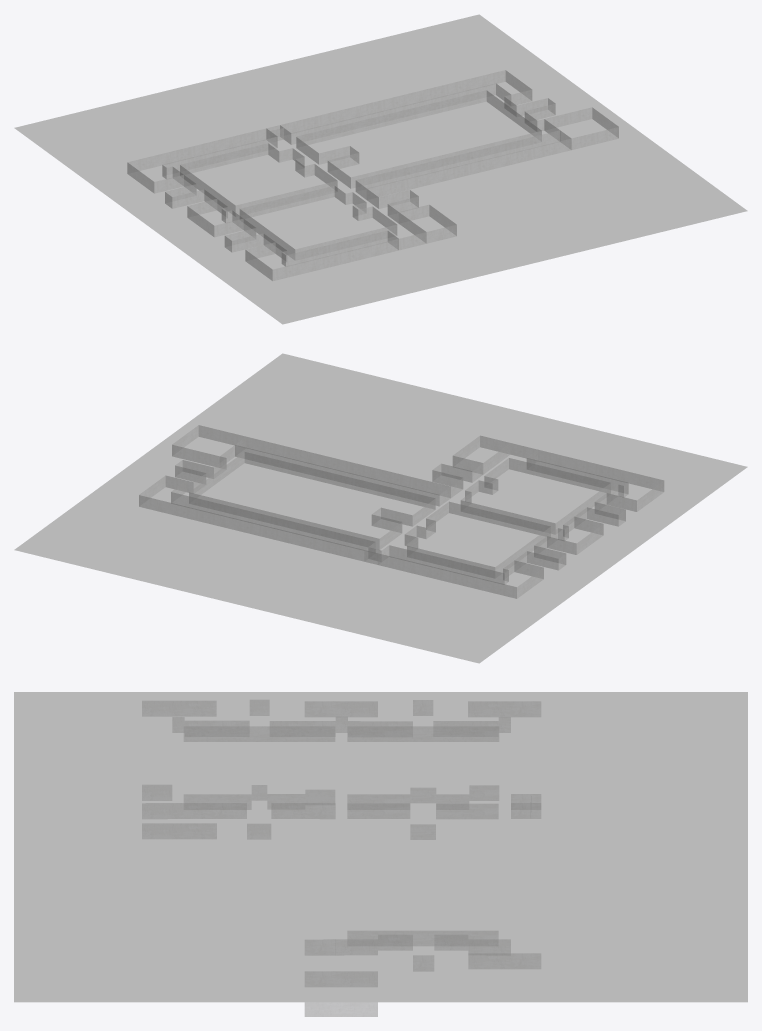
The model's file is Tietotalo1_3krs.fbx.
3 renders of one model, top to bottom at view 1: azimuth 30°, elevation 25°; view 2: azimuth 150°, elevation 25°; view 3: azimuth 270°, elevation 25°, orthographic. The views are drawn at different scales.
Parts seen in each view (by area): view 1: Floor, Walls_outer, Walls_inner3, Walls_inner1, Walls_inner2; view 2: Floor, Walls_outer, Walls_inner3, Walls_inner1, Walls_inner2; view 3: Floor, Walls_outer, Walls_inner3, Walls_inner2, Walls_inner1.
Part boxes in pixels (bbox=[...]): Floor: bbox=[14, 14, 747, 324]; Walls_outer: bbox=[127, 70, 618, 280]; Walls_inner3: bbox=[296, 90, 541, 188]; Walls_inner1: bbox=[239, 185, 397, 260]; Walls_inner2: bbox=[180, 143, 337, 216]; Floor: bbox=[14, 353, 747, 663]; Walls_outer: bbox=[139, 425, 664, 598]; Walls_inner3: bbox=[189, 452, 435, 549]; Walls_inner1: bbox=[460, 458, 610, 534]; Walls_inner2: bbox=[404, 501, 550, 577]; Floor: bbox=[14, 692, 747, 1002]; Walls_outer: bbox=[142, 699, 541, 1016]; Walls_inner3: bbox=[347, 803, 498, 946]; Walls_inner2: bbox=[347, 726, 499, 809]; Walls_inner1: bbox=[183, 726, 335, 809].
Size of the model in its own units: 1470 by 101 by 1470.
